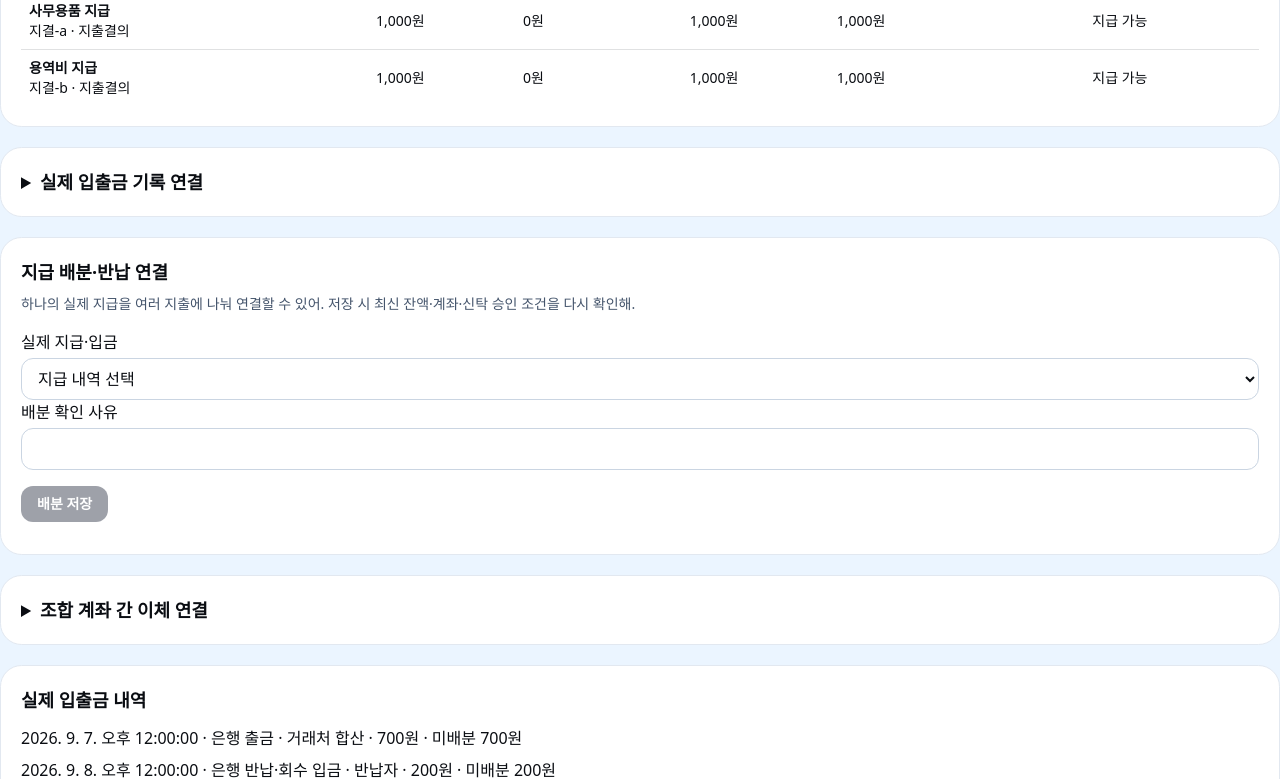
payment UI persistence and source preservation › submits one actual payment with multiple explicitly entered allocations
The image size is (1280, 779).
(page scrolled)
Select "out" in the dropdown labelled "실제 지급·입금" at [640, 379], box [21, 358, 1259, 400]
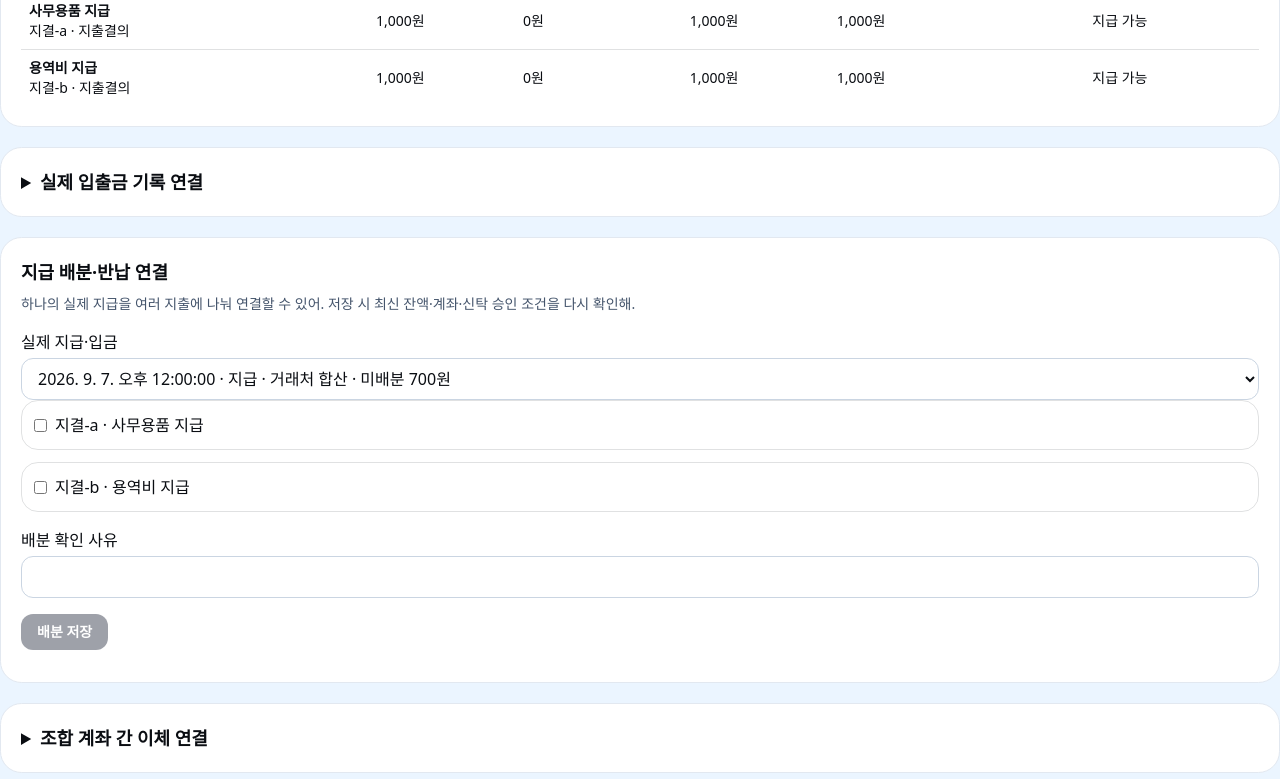
Click the checkbox labelled "지결-a · 사무용품 지급" at [40, 425], box [34, 418, 47, 432]
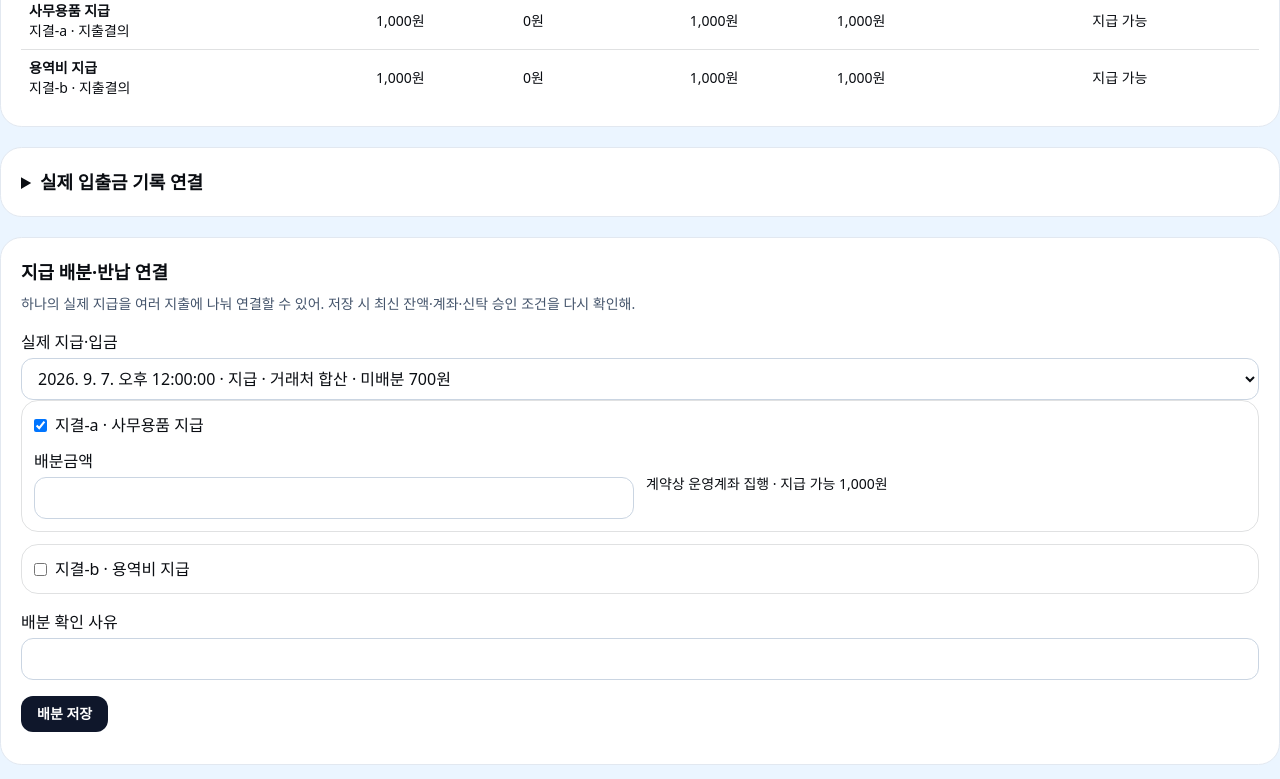
Click the checkbox labelled "지결-b · 용역비 지급" at [40, 569], box [34, 562, 47, 576]
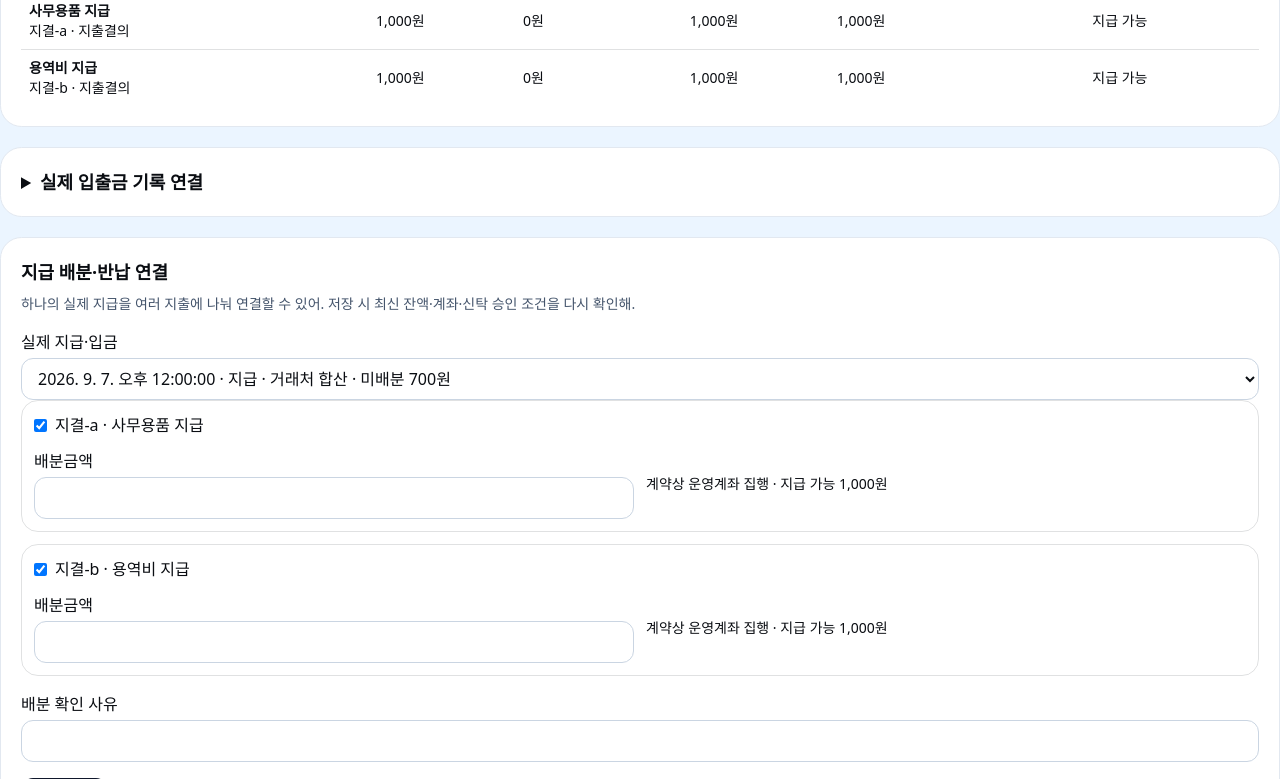
expect the 1st number field labelled "배분금액" is not empty: met
Type "250" into the 1st number field labelled "배분금액" at [334, 498], box [34, 477, 634, 519]
Type "450" into the 2nd number field labelled "배분금액" at [334, 642], box [34, 621, 634, 663]
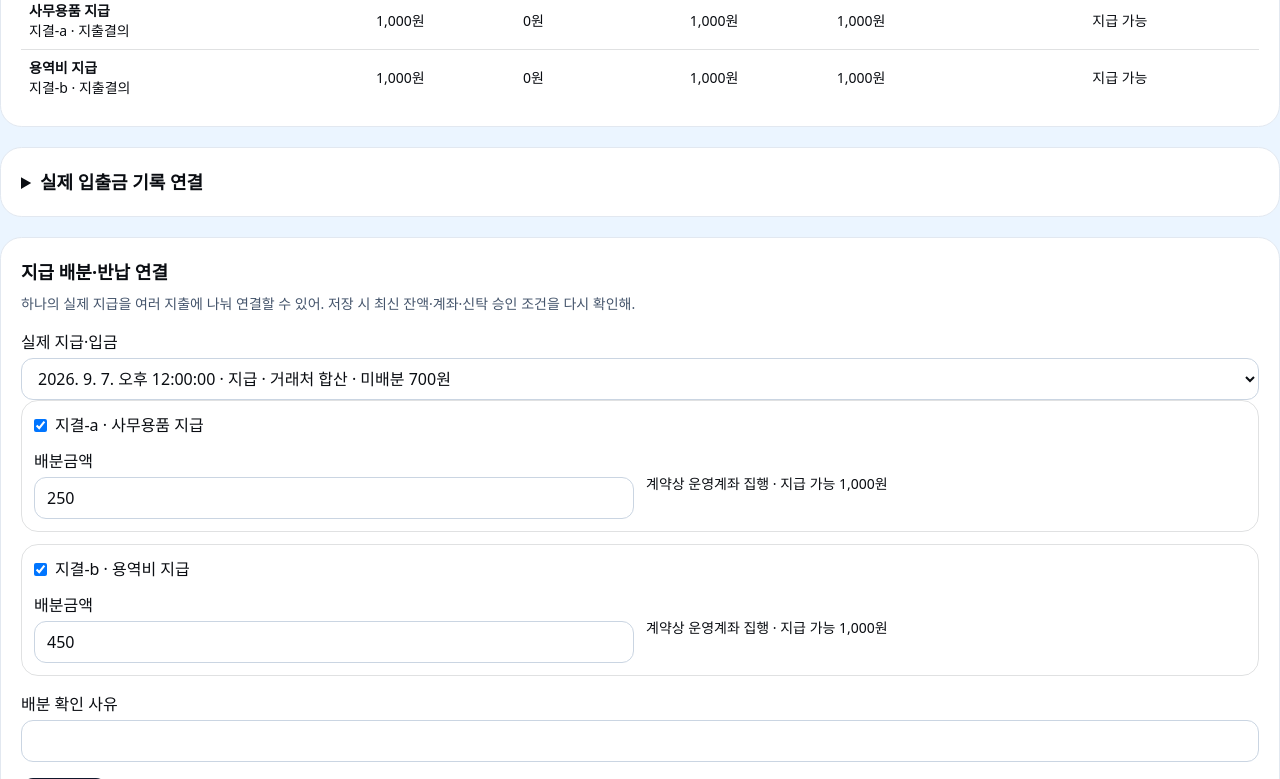
Type "합산 출금 확인" into the field labelled "배분 확인 사유" at [640, 741], box [21, 720, 1259, 762]
(page scrolled)
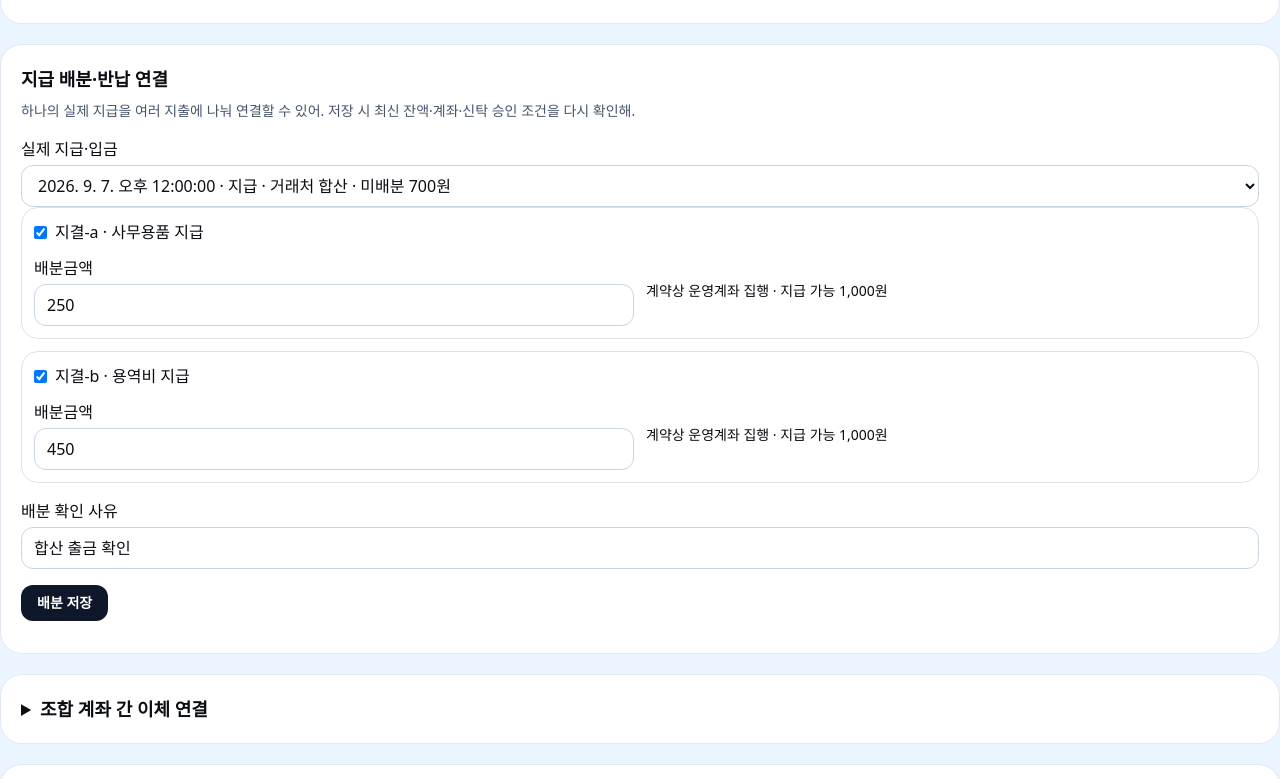
Submit the form named "배분 저장"
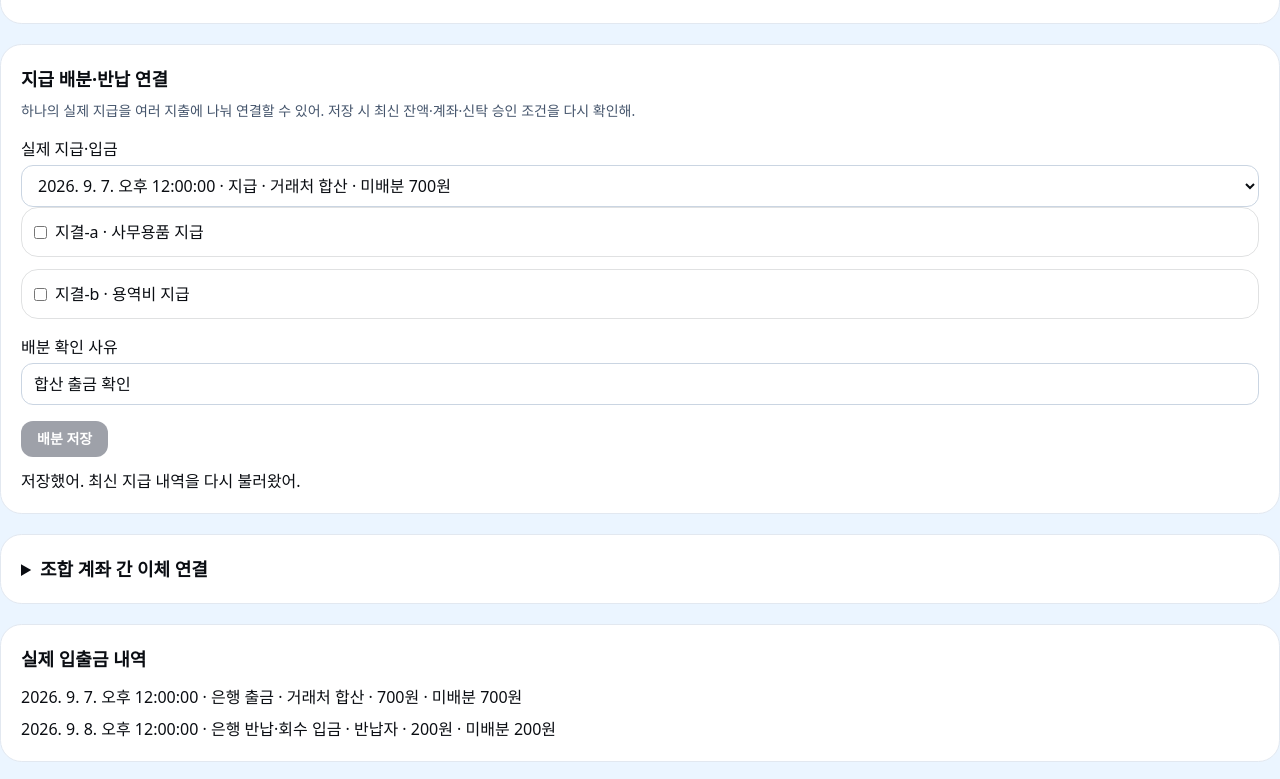
expect the label labelled "배분금액" is gone: met
